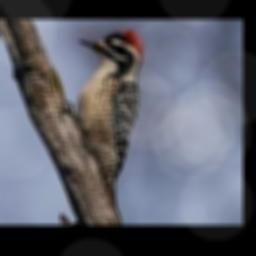Woodpecker: (60, 30, 146, 205)
